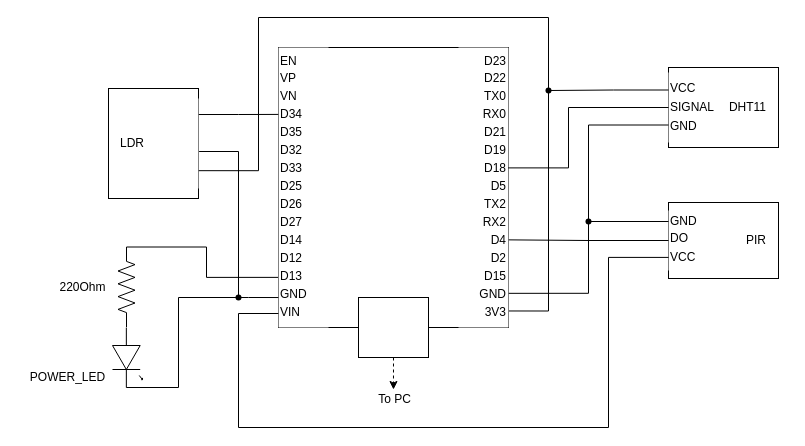
Image size: 805x446. Some labels were removed from this diagram. Each missing label, with the box of its shape:
AO DO GND VCC: (168, 98, 198, 188)
ESP32-Devkit: (278, 46, 508, 328)
USB: (358, 296, 428, 358)
